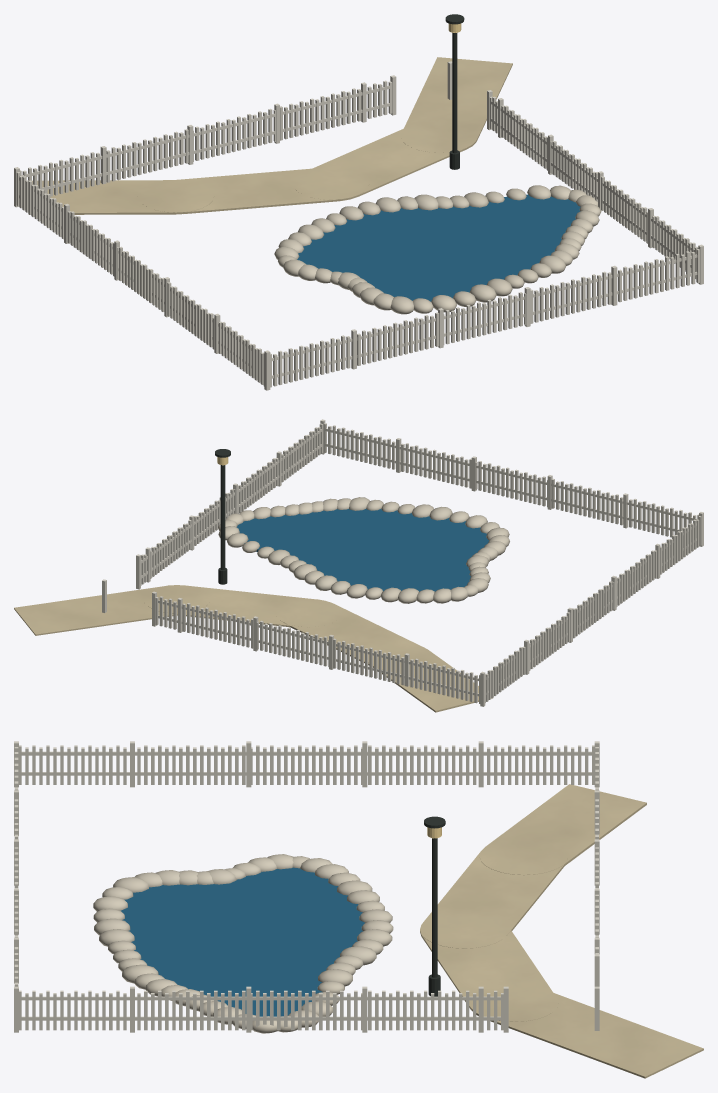
The model's file is dum_0b_park_rybnik.glb.
The picture shows the model from 3 angles, top to bottom: view 1: azimuth 30°, elevation 25°; view 2: azimuth 150°, elevation 25°; view 3: azimuth 270°, elevation 25°; orthographic projection. The views are drawn at different scales.
Parts seen in each view (by area): view 1: dum; view 2: dum; view 3: dum.
Boxes of the visible parts, box(x1,y1,x2,y2) form: dum: box(14, 14, 703, 390); dum: box(14, 419, 703, 712); dum: box(14, 741, 703, 1078).
Size of the model in its own units: 13.97 by 3.95 by 13.89.
1 material, 1 textured.
